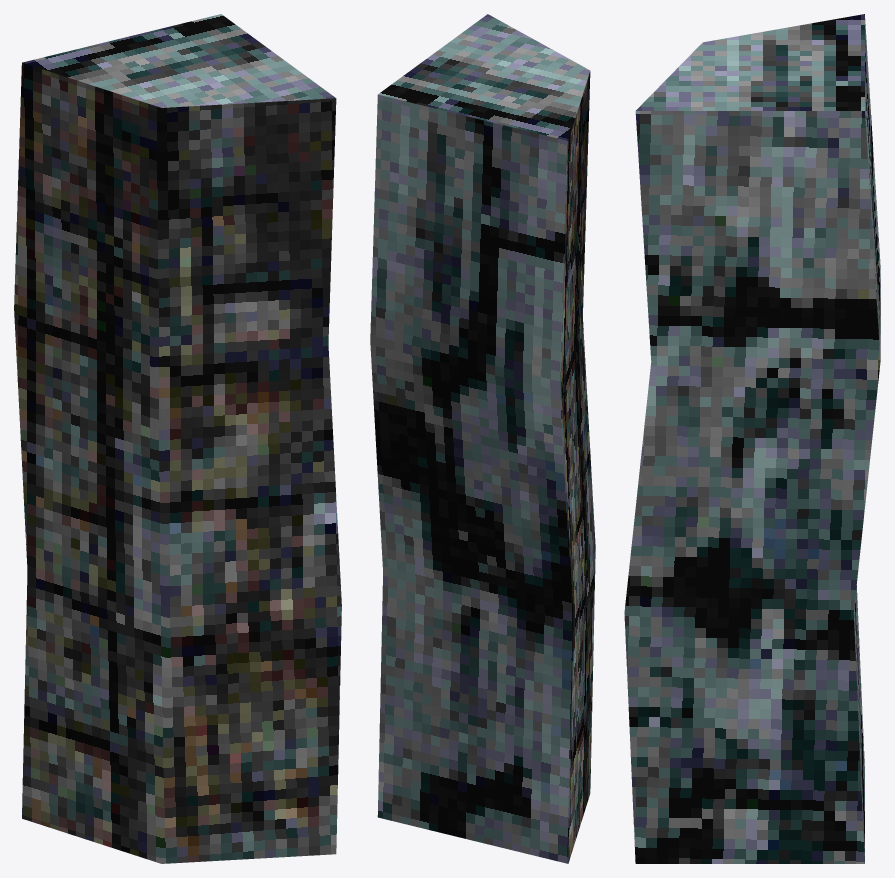
Rendered from log-char-1.glb.
The picture shows the model from 3 angles, left to right: view 1: azimuth 30°, elevation 25°; view 2: azimuth 150°, elevation 25°; view 3: azimuth 270°, elevation 25°; orthographic projection. The views are drawn at different scales.
Parts seen in each view (by area): view 1: log-char-1.001; view 2: log-char-1.001; view 3: log-char-1.001.
Boxes of the visible parts, box(x1,y1,x2,y2) form: log-char-1.001: box(14, 14, 341, 863); log-char-1.001: box(370, 14, 595, 863); log-char-1.001: box(624, 14, 880, 863).
Size of the model in its own units: 0.1617 by 0.5859 by 0.1806.
1 material, 1 textured.
